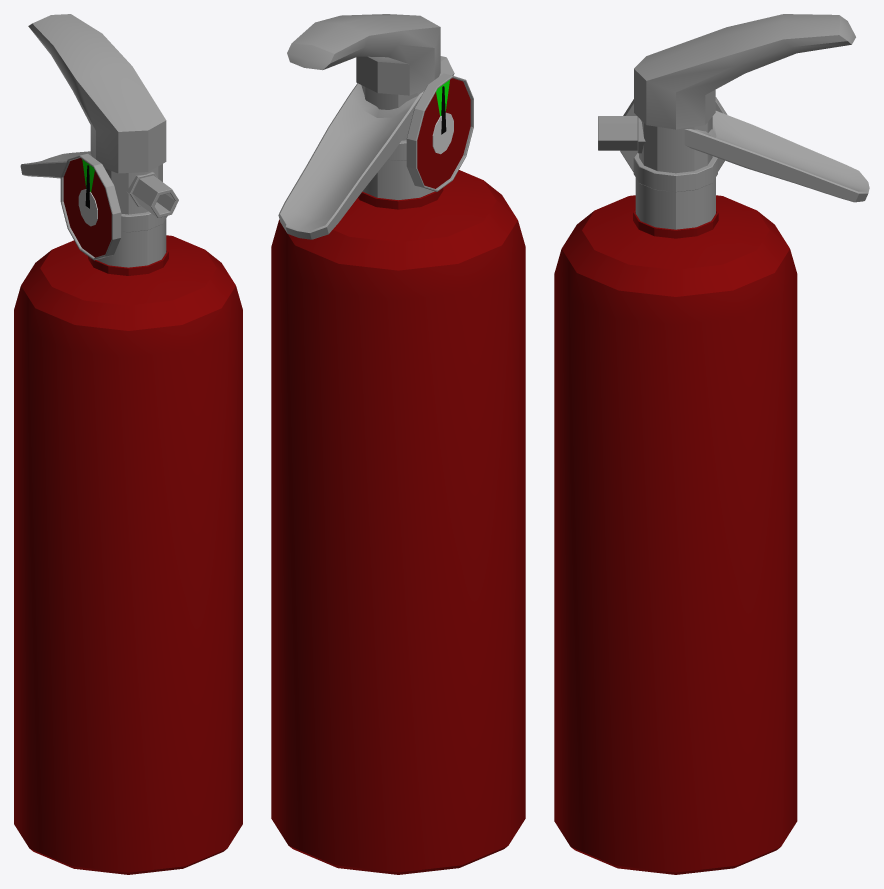
The model's file is Fire_Extinguisher.fbx.
3 views of the same model, side by side, from view 1: azimuth 30°, elevation 25°; view 2: azimuth 150°, elevation 25°; view 3: azimuth 270°, elevation 25° (orthographic). The views are drawn at different scales.
Parts seen in each view (by area): view 1: Fire Extinguisher; view 2: Fire Extinguisher; view 3: Fire Extinguisher.
Part boxes in pixels (left/top/right/bottom): Fire Extinguisher: left=14, top=14, right=242, bottom=874; Fire Extinguisher: left=271, top=14, right=525, bottom=874; Fire Extinguisher: left=554, top=14, right=869, bottom=874.
Bounding box in the file's own units: 0.2827 × 0.3668 × 1.03.
